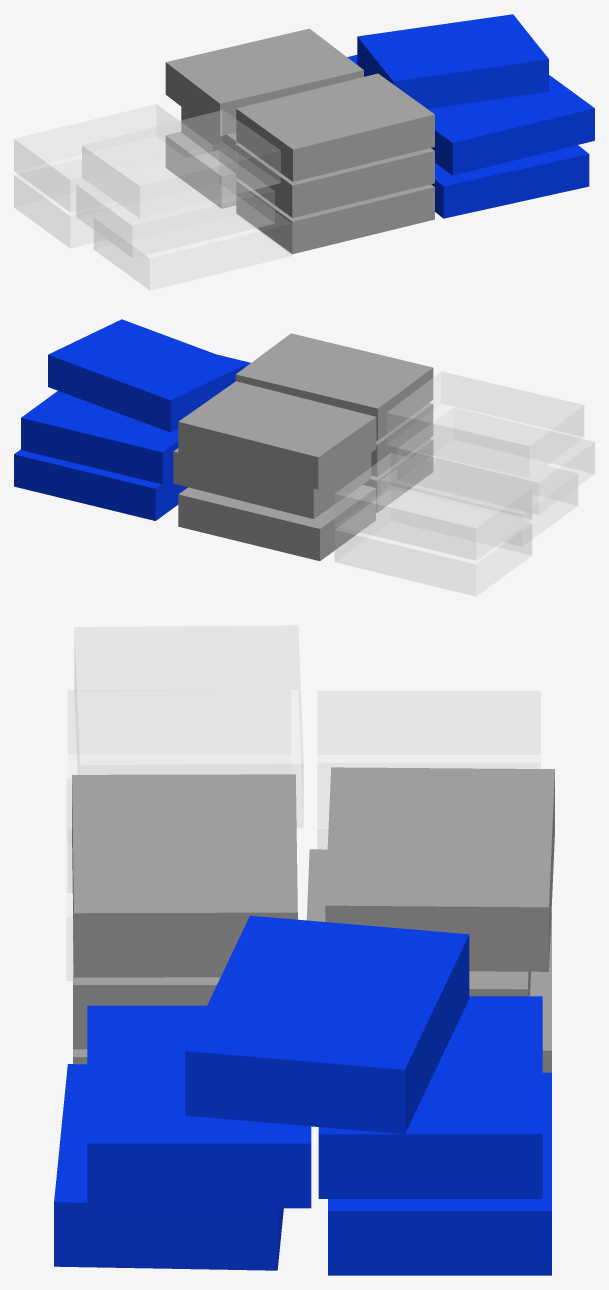
The model's file is FrozenBox_vhvpd4_Pack04.fbx.
3 renders of one model, top to bottom at view 1: azimuth 30°, elevation 25°; view 2: azimuth 150°, elevation 25°; view 3: azimuth 270°, elevation 25°, orthographic. The views are drawn at different scales.
Parts seen in each view (by area): view 1: FrozenBox_vhvpd4_Pack04; view 2: FrozenBox_vhvpd4_Pack04; view 3: FrozenBox_vhvpd4_Pack04.
Boxes of the visible parts, x1,y1,x2,y2 form: FrozenBox_vhvpd4_Pack04: (14, 14, 594, 290); FrozenBox_vhvpd4_Pack04: (14, 319, 594, 596); FrozenBox_vhvpd4_Pack04: (54, 625, 554, 1275).
Bounding box in the file's own units: 94.03 × 20.16 × 43.88.
